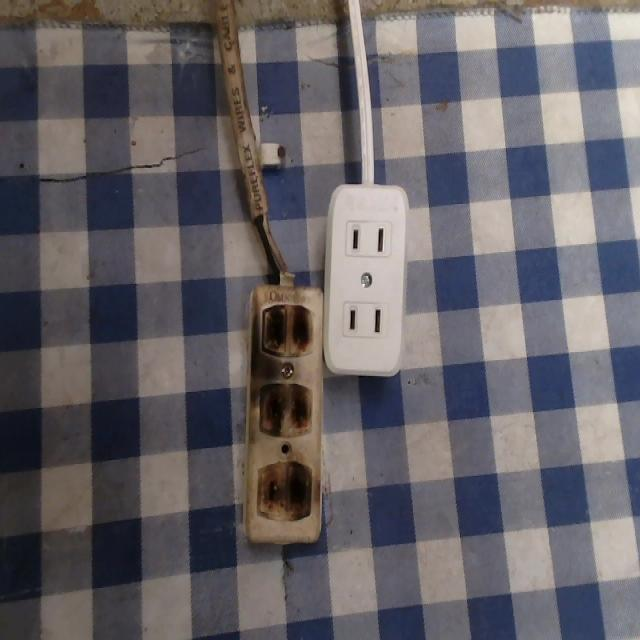-: (252, 455, 316, 525), (256, 380, 315, 439), (257, 302, 316, 358)
